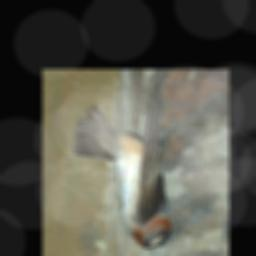Swallow: (73, 80, 173, 249)
